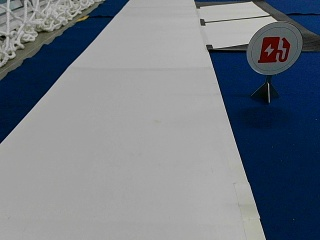battery: (245, 20, 302, 76)
